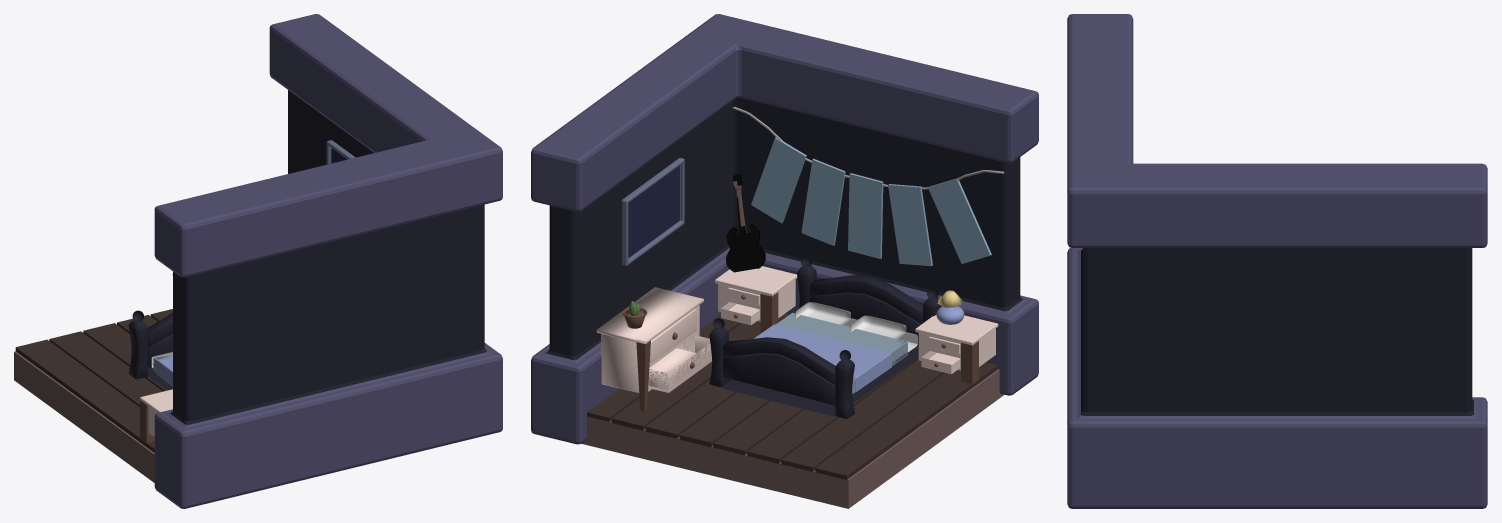
The model's file is roomcheck.glb.
3 renders of one model, left to right at view 1: azimuth 30°, elevation 25°; view 2: azimuth 150°, elevation 25°; view 3: azimuth 270°, elevation 25°, orthographic. The views are drawn at different scales.
Visible parts, largest first — view 1: Cube, Plane.001, Plane, Plane.004, Plane.003, Plane.015; view 2: Cube, Plane.001, Plane, Plane.003, Plane.009, Cube.001, Plane.017, Plane.015, Plane.004, Plane.013, Cube.005, Cube.006 (+12 smaller); view 3: Cube.
Boxes of the visible parts, x1,y1,x2,y2 form: Cube: [154, 14, 502, 508]; Plane.001: [15, 309, 172, 452]; Plane: [14, 351, 154, 482]; Plane.004: [128, 310, 147, 379]; Plane.003: [148, 313, 172, 366]; Plane.015: [140, 389, 172, 436]; Cube: [531, 14, 1038, 444]; Plane.001: [587, 313, 997, 480]; Plane: [581, 369, 1004, 508]; Plane.003: [723, 275, 922, 405]; Plane.009: [596, 287, 711, 392]; Cube.001: [621, 158, 684, 265]; Plane.017: [715, 266, 797, 325]; Plane.015: [915, 315, 998, 374]; Plane.004: [709, 256, 941, 418]; Plane.013: [753, 324, 891, 392]; Cube.005: [888, 184, 932, 266]; Cube.006: [928, 178, 991, 263]; Cube: [1067, 14, 1487, 508].
Size of what is drawn, in the model's own units: 2.37 by 2.02 by 2.37.
